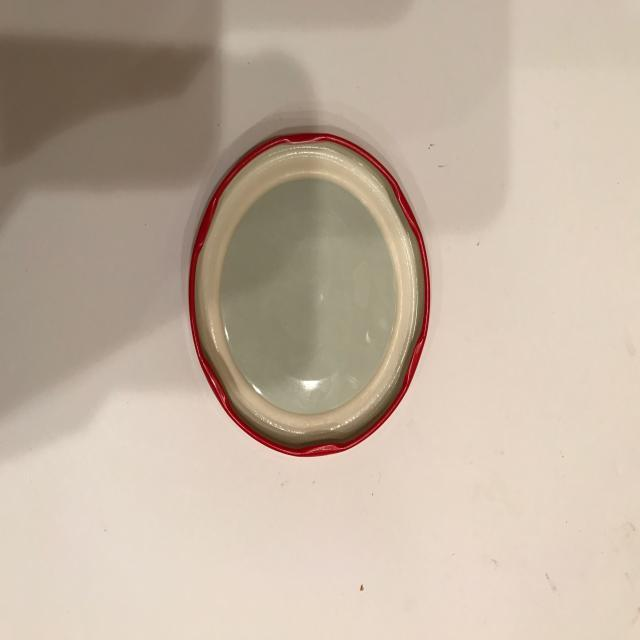metal: (184, 128, 432, 458)
